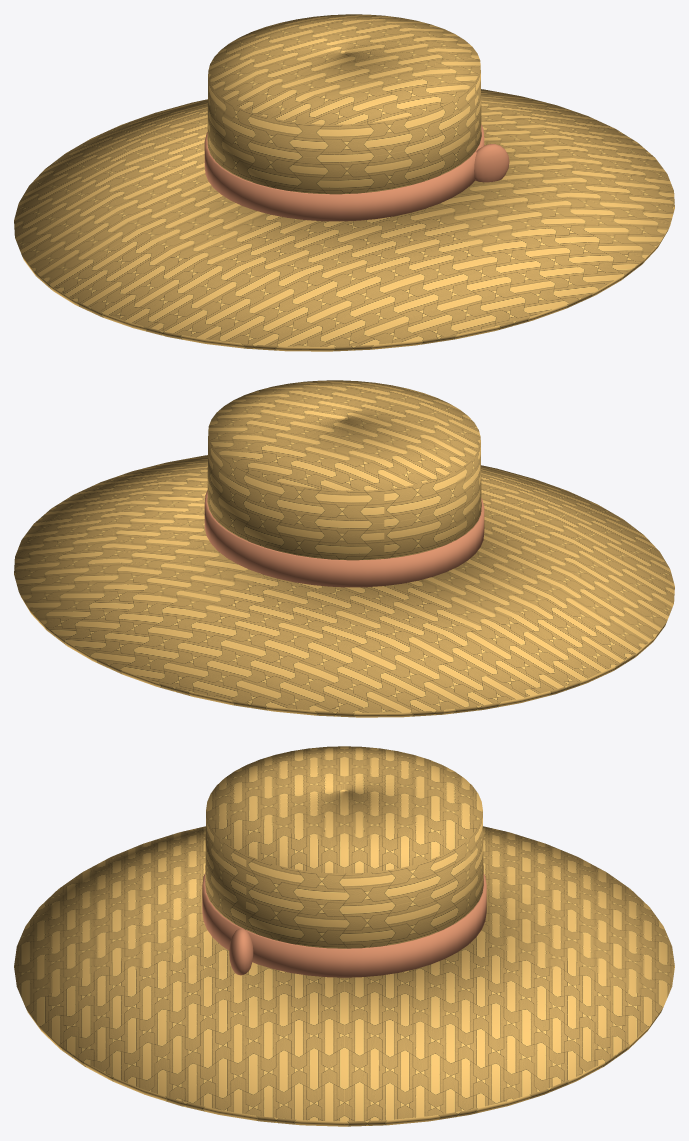
The model's file is sunhat4.fbx.
The picture shows the model from 3 angles, top to bottom: view 1: azimuth 30°, elevation 25°; view 2: azimuth 150°, elevation 25°; view 3: azimuth 270°, elevation 25°; orthographic projection. The views are drawn at different scales.
Parts seen in each view (by area): view 1: sunhat4; view 2: sunhat4; view 3: sunhat4.
Boxes of the visible parts, <box> form: sunhat4: <box>14,14,674,351</box>; sunhat4: <box>14,380,674,717</box>; sunhat4: <box>14,746,674,1126</box>.
Bounding box in the file's own units: 1.21 × 0.33 × 1.09.
Materials: 2 (1 with a texture image).
